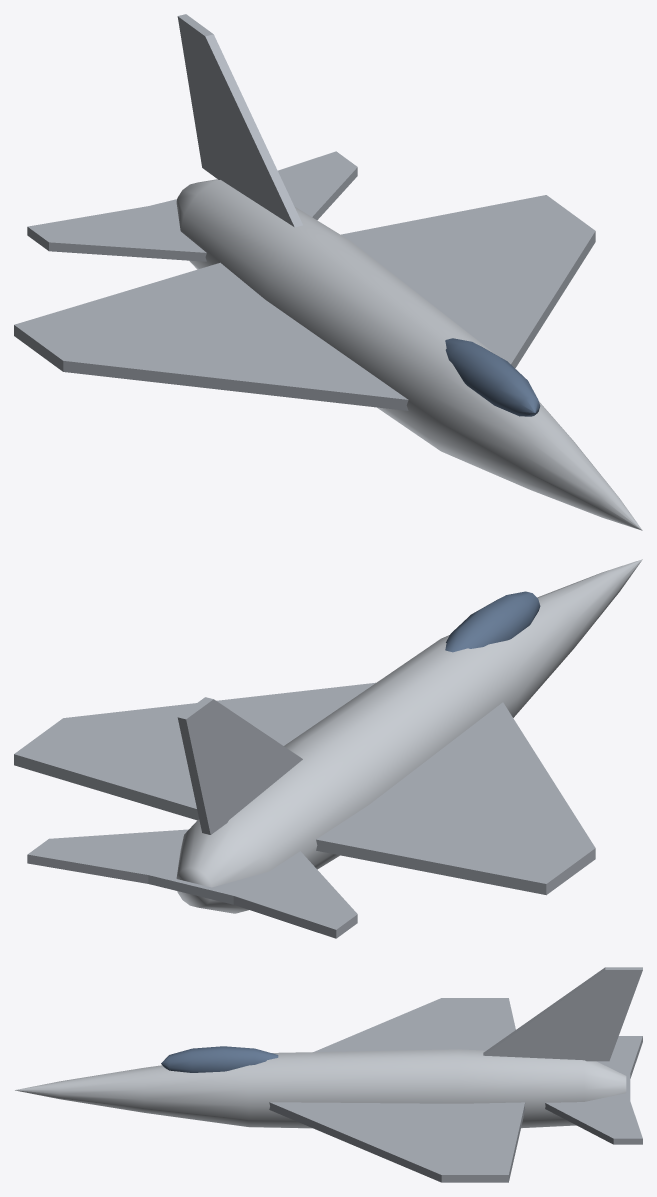
Rendered from aircraft.glb.
3 views of the same model, one above another, from view 1: azimuth 30°, elevation 25°; view 2: azimuth 150°, elevation 25°; view 3: azimuth 270°, elevation 25° (orthographic). The views are drawn at different scales.
Visible parts, largest first — view 1: aircraft; view 2: aircraft; view 3: aircraft.
Part boxes in pixels (left/top/right/bottom): aircraft: left=14, top=14, right=642, bottom=530; aircraft: left=14, top=559, right=642, bottom=938; aircraft: left=15, top=967, right=642, bottom=1182.
Size of the model in its own units: 10 by 4.17 by 15.
